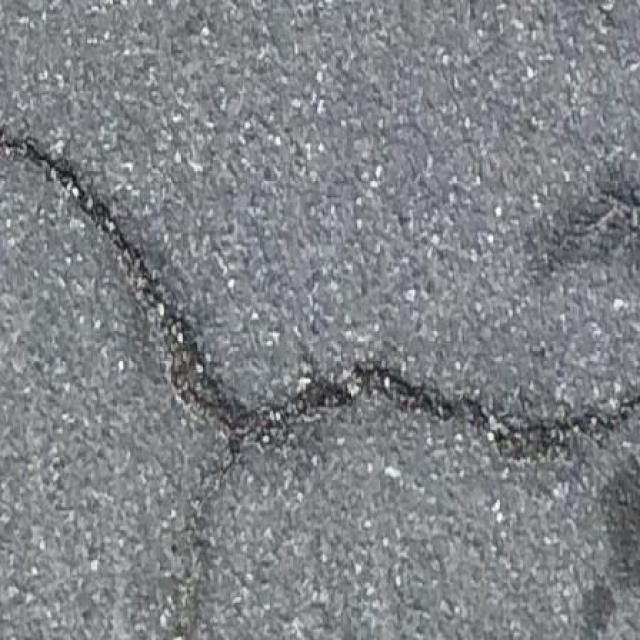Crack: (0, 128, 640, 639), (591, 195, 640, 222), (576, 223, 589, 229)
